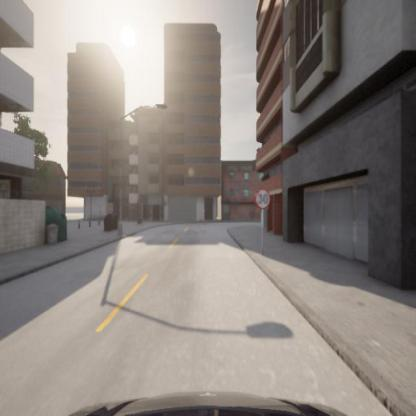traffic_sign_30: (255, 189, 270, 208)
